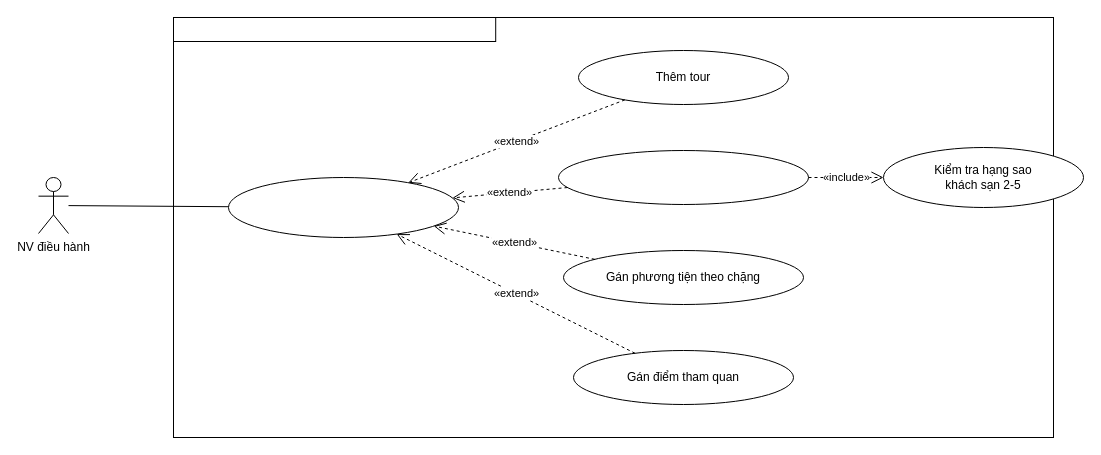
The diagram is 1101 pixels wide and 455 high, and some of its shapes have lost their labels. Here are the shapes that lost their labels. From the top down, the centre of each, then its label:
At point 334,29: "Phân rã use case Quản lý tour - hành trình".
At point 683,177: "Thêm điểm dừng (nơi dừng chân)".
At point 343,207: "Quản lý tour - hành trình".
